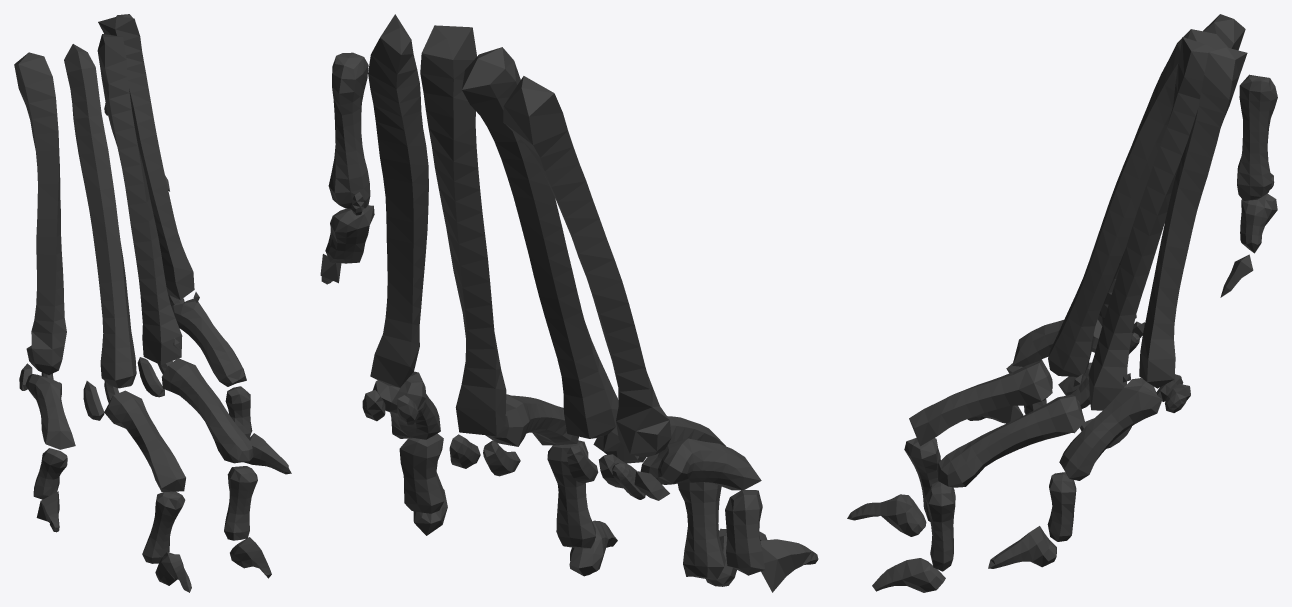
Rendered from MC_down_R.glb.
3 renders of one model, left to right at view 1: azimuth 30°, elevation 25°; view 2: azimuth 150°, elevation 25°; view 3: azimuth 270°, elevation 25°, orthographic. The views are drawn at different scales.
Visible parts, largest first — view 1: MC_down_R; view 2: MC_down_R; view 3: MC_down_R.
Part boxes in pixels (box(x1,y1,x2,y2)): MC_down_R: box(14, 14, 291, 592); MC_down_R: box(320, 14, 818, 592); MC_down_R: box(847, 14, 1277, 592).
Bounding box in the file's own units: 3.47 × 6.19 × 4.42.
1 material, 1 textured.
